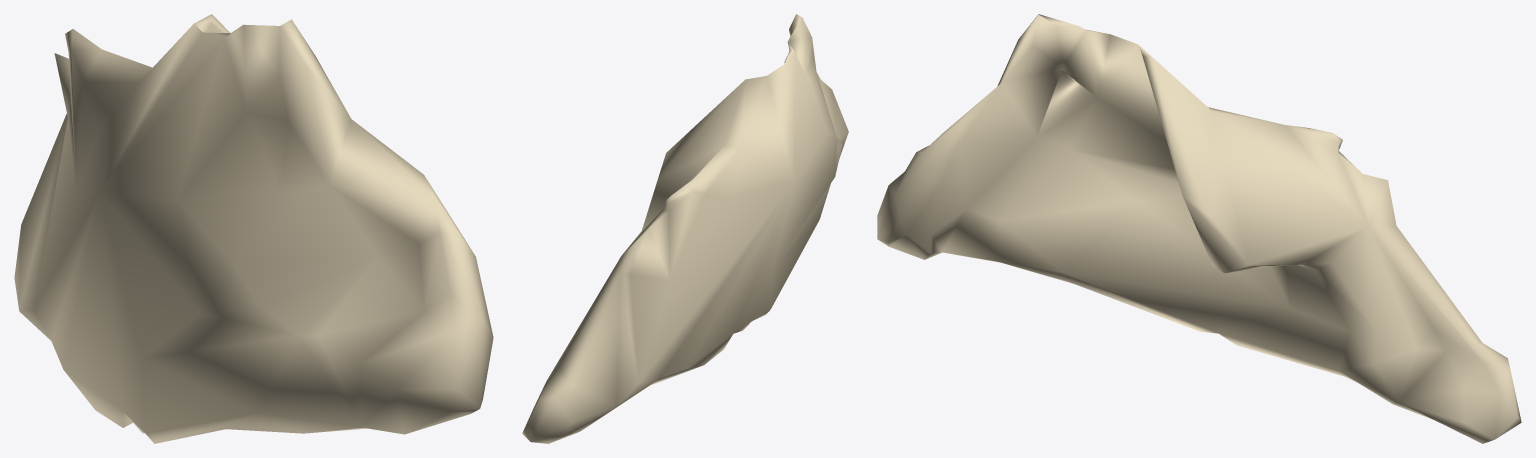
The model's file is esqueleto-inferior-nasal-concha-bone-l.glb.
3 renders of one model, left to right at view 1: azimuth 30°, elevation 25°; view 2: azimuth 150°, elevation 25°; view 3: azimuth 270°, elevation 25°, orthographic. The views are drawn at different scales.
Parts seen in each view (by area): view 1: Inferior nasal concha bone.l; view 2: Inferior nasal concha bone.l; view 3: Inferior nasal concha bone.l.
Part boxes in pixels (x1,y1,x2,y2): Inferior nasal concha bone.l: (14, 14, 493, 443); Inferior nasal concha bone.l: (522, 14, 848, 443); Inferior nasal concha bone.l: (877, 14, 1521, 443).
Bounding box in the file's own units: 0.0105 × 0.0225 × 0.0346.
